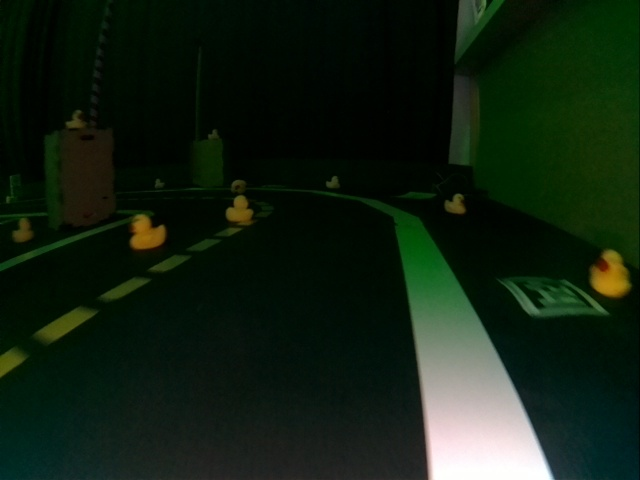Duckie: (591, 249, 630, 296), (129, 215, 164, 247), (225, 195, 253, 221), (12, 218, 31, 243), (445, 194, 466, 214), (66, 112, 77, 129), (231, 180, 245, 192), (327, 177, 337, 186), (155, 179, 165, 188), (210, 129, 217, 135)
QR code: (502, 276, 606, 316)
